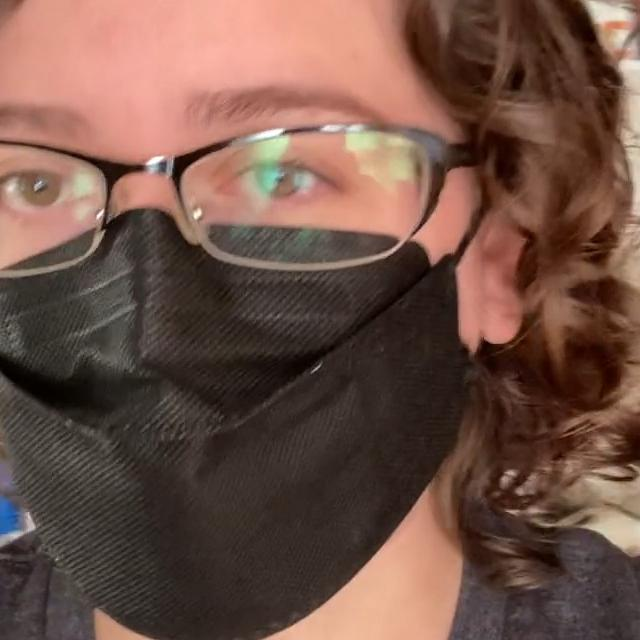Mask: (0, 189, 497, 640)
Person: (0, 0, 640, 640)
